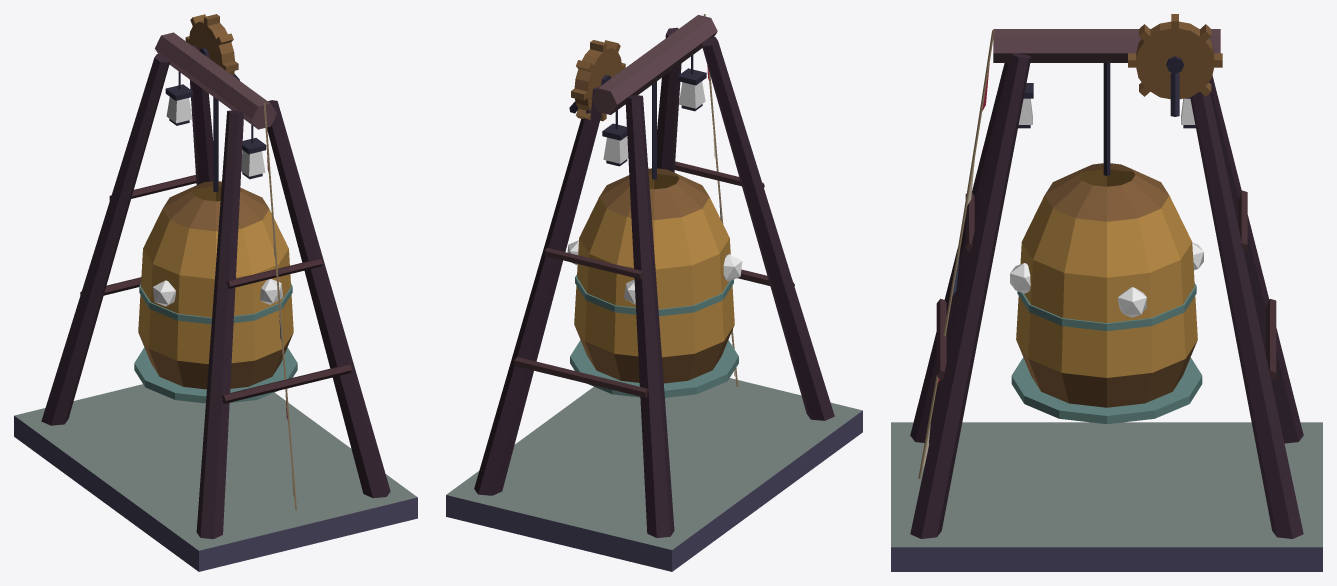
The model's file is Fair_DivingBell.fbx.
The picture shows the model from 3 angles, left to right: view 1: azimuth 30°, elevation 25°; view 2: azimuth 150°, elevation 25°; view 3: azimuth 270°, elevation 25°; orthographic projection. The views are drawn at different scales.
Visible parts, largest first — view 1: Fair_DivingBell; view 2: Fair_DivingBell; view 3: Fair_DivingBell.
Boxes of the visible parts, x1=… form: Fair_DivingBell: x1=14, y1=14, x2=417, y2=571; Fair_DivingBell: x1=446, y1=14, x2=862, y2=571; Fair_DivingBell: x1=891, y1=14, x2=1322, y2=571.
Size of what is drawn, in the model's own units: 5.2 by 9.83 by 7.6.
Materials: 2 (1 with a texture image).
